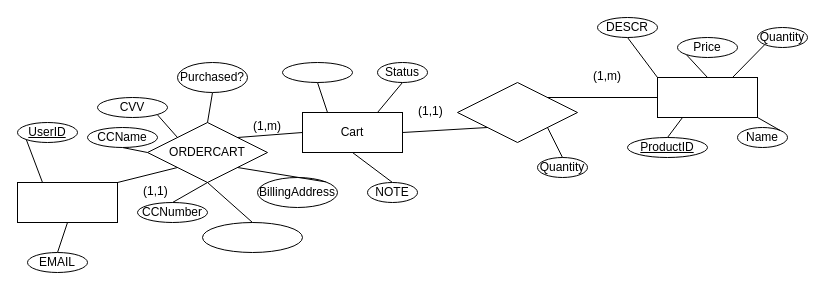
This 825x290 diagram has some shape labels left out. Each missing label, with the centre of its shape:
"FILLCART" belongs at pixel 517 112.
"OrderNo" belongs at pixel 317 72.
"Product" belongs at pixel 707 97.
"ShippingAddress" belongs at pixel 252 237.
"User" belongs at pixel 67 202.
